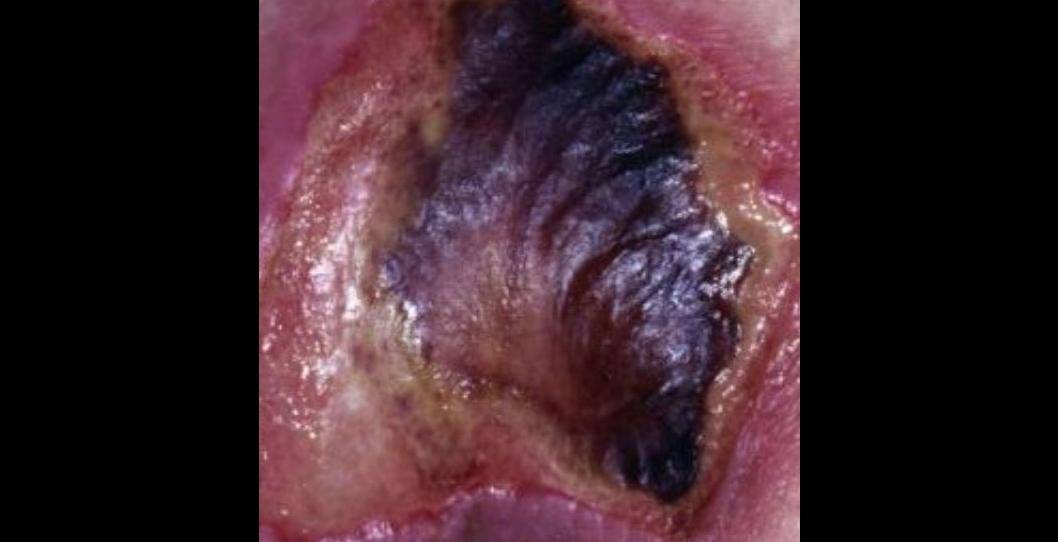Stage3: (258, 0, 783, 542)
